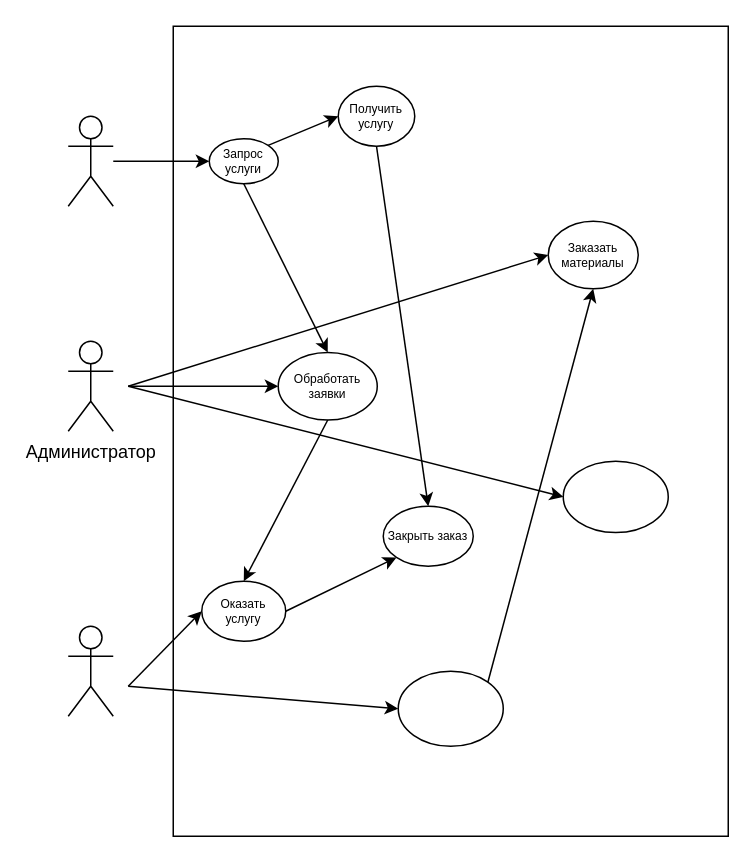
The diagram is 755 pixels wide and 863 high, and some of its shapes have lost their labels. Here are the shapes that lost their labels. From the top down, the centre of each, then its label:
At pixel 90 160: "Клиент".
At pixel 615 496: "Запросить аналитическую отчетность".
At pixel 90 670: "Мастер".
At pixel 450 708: "Оформить заявку на материал".
